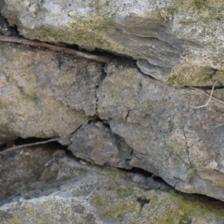Crack: (1, 39, 111, 102), (180, 26, 224, 99), (76, 64, 101, 142)
